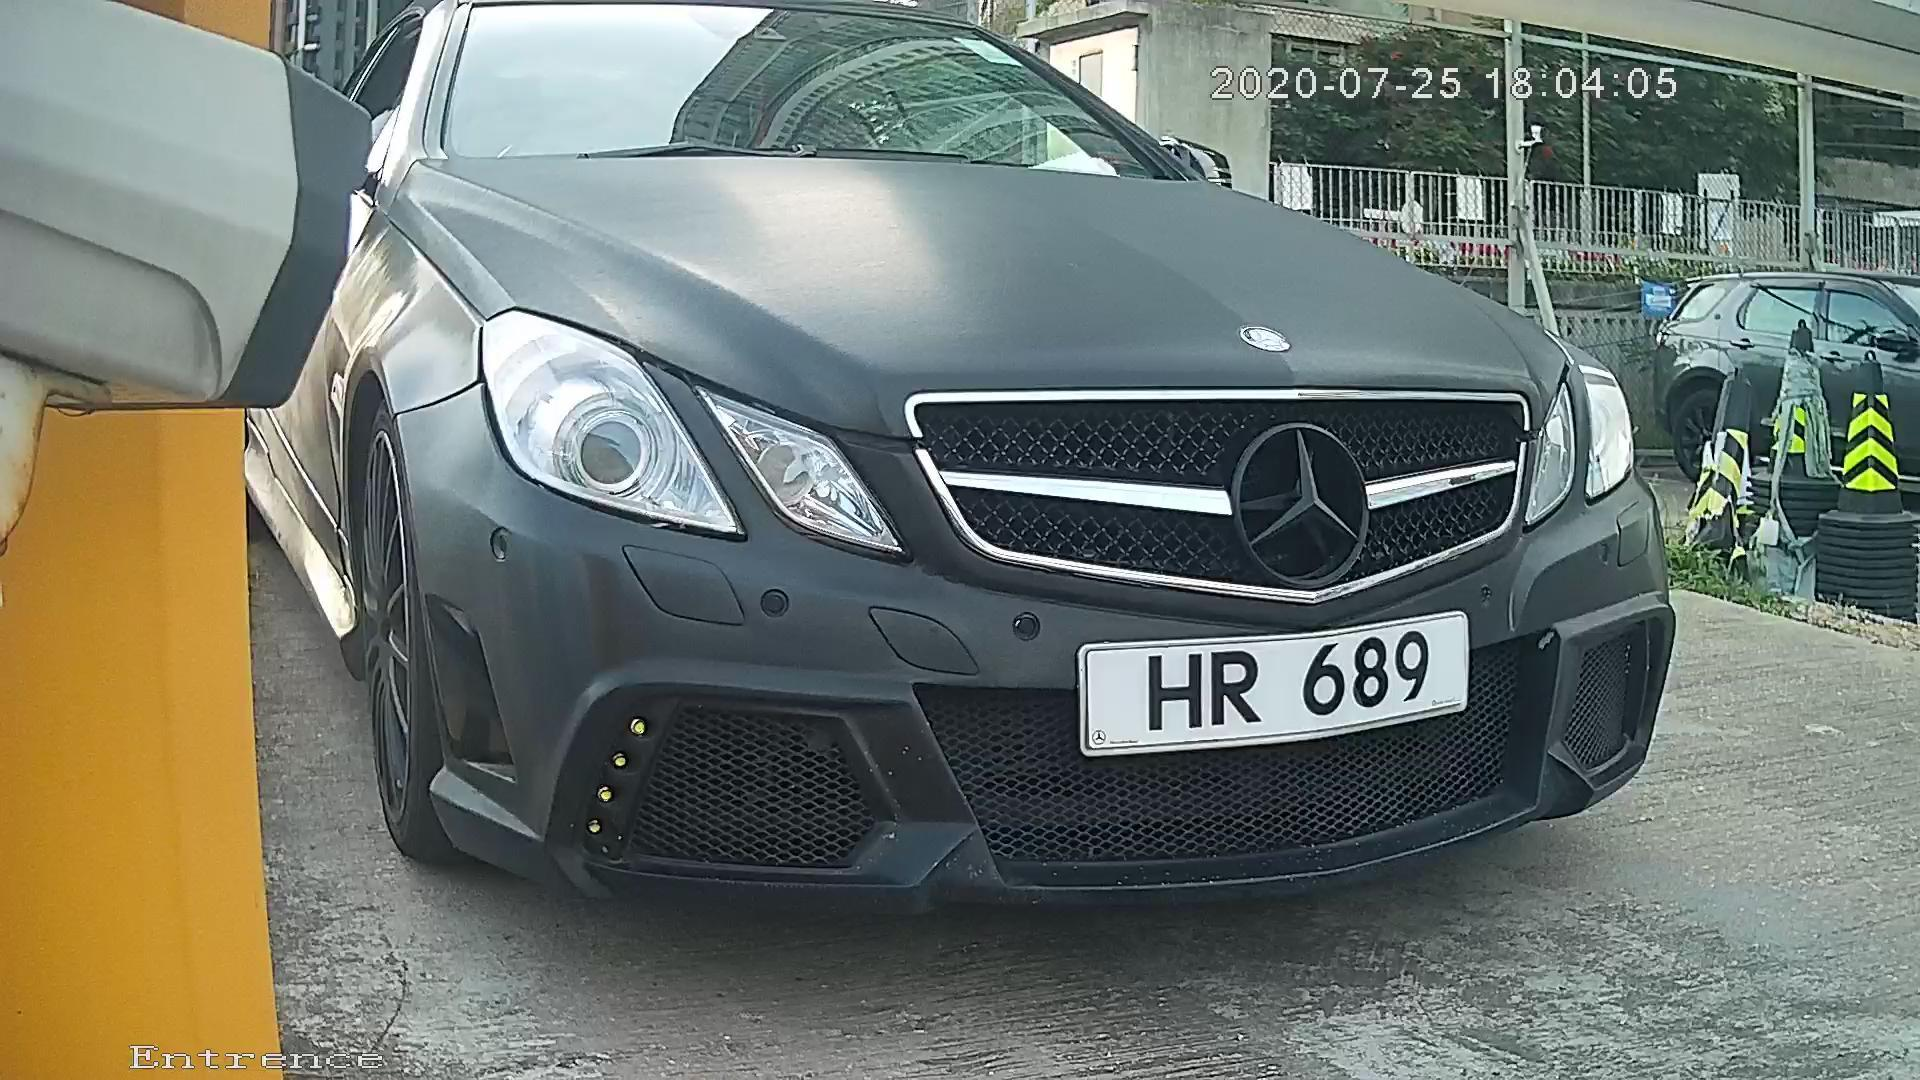privatecar: (206, 15, 1809, 978)
